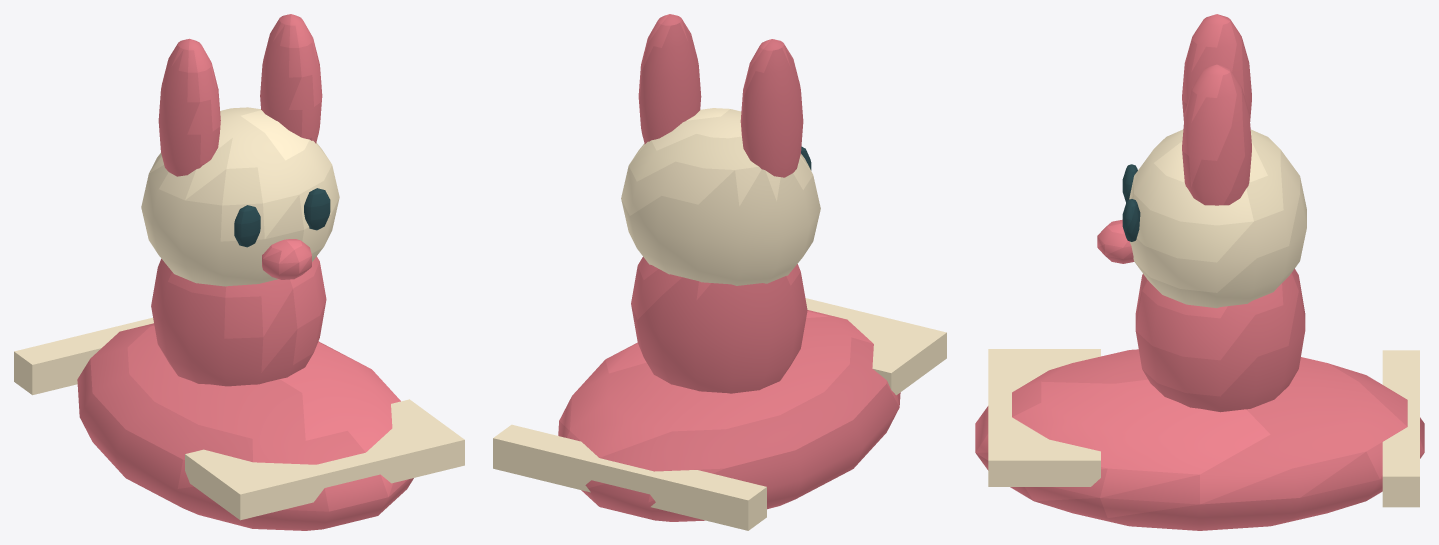
File: kart-0.gltf
The picture shows the model from 3 angles, left to right: view 1: azimuth 30°, elevation 25°; view 2: azimuth 150°, elevation 25°; view 3: azimuth 270°, elevation 25°; orthographic projection.
Size of the model in its own units: 1.84 by 3 by 2.63.
Materials: 1 (1 with a texture image).
